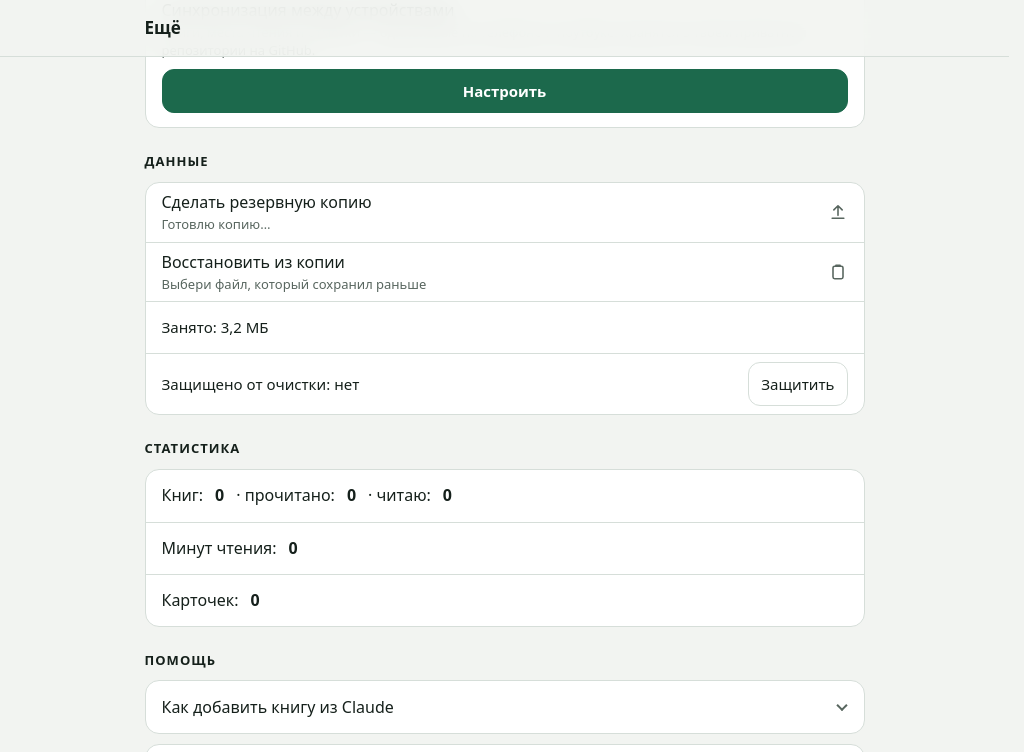
Test case: «Ещё»: место на устройстве › «Занято» и «Защищено от очистки: нет» с кнопкой «Защитить»
(page scrolled)
What coordinates should you click on to do the following:
click the button "Защитить"
I would click on:
 (798, 384)
Its box is [748, 362, 848, 406].
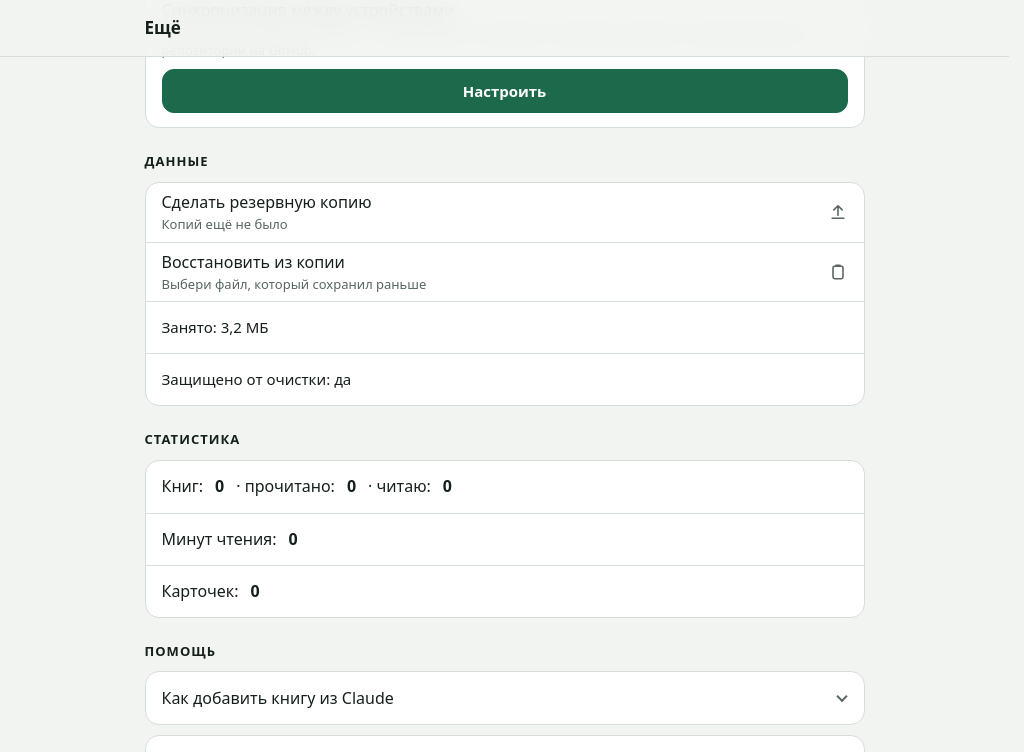
Expected: the text "Защищено от очистки: да" is shown, [162, 369, 351, 390]
